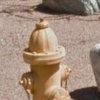Hydrant: (14, 12, 73, 100)
